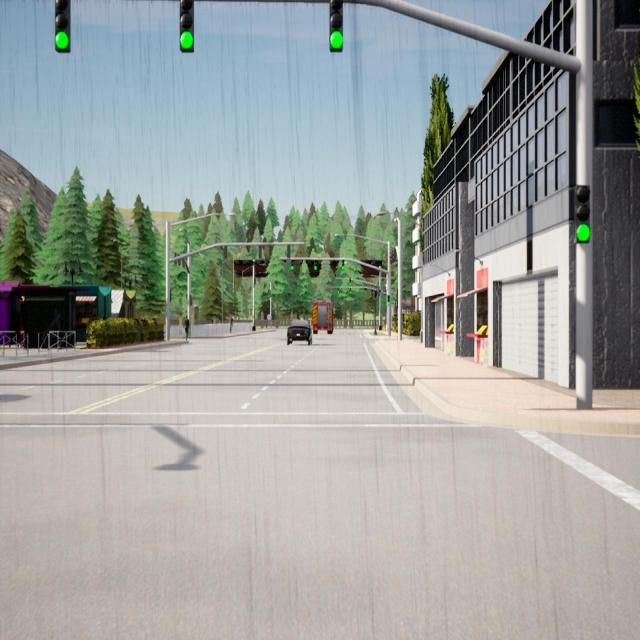Pedestrian: (183, 315, 190, 341), (230, 318, 233, 334)
Traffic_Signs: (267, 314, 271, 320)
Vehicle: (312, 300, 334, 335), (287, 320, 312, 346)
traffic_light: (574, 186, 590, 243), (54, 0, 70, 53), (180, 0, 194, 53), (329, 0, 343, 52), (258, 245, 262, 258), (224, 246, 227, 258), (396, 288, 398, 305), (174, 253, 177, 264), (291, 260, 294, 271), (314, 260, 317, 270), (182, 258, 185, 267), (392, 250, 394, 263), (288, 245, 290, 257), (390, 252, 392, 264), (388, 295, 390, 306), (394, 250, 396, 261), (178, 254, 180, 265), (190, 295, 192, 305), (342, 260, 344, 269), (349, 278, 351, 286), (170, 289, 171, 302), (338, 288, 340, 294), (364, 288, 366, 294), (350, 288, 351, 294)
